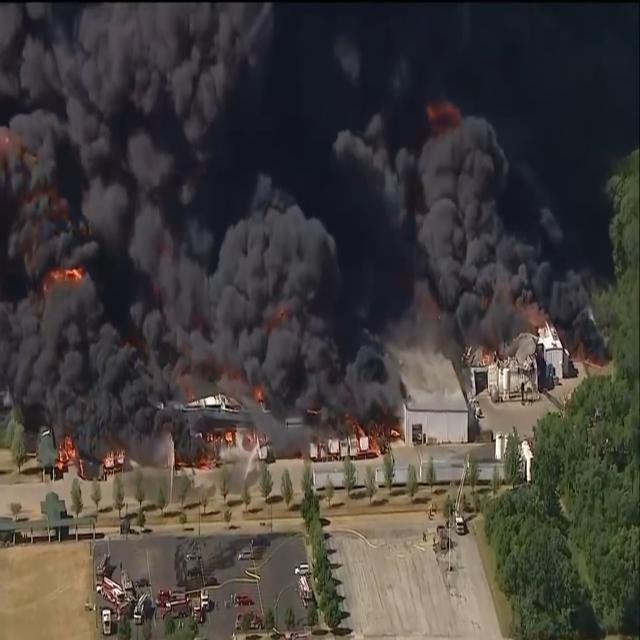Fire: (36, 260, 86, 296), (426, 100, 464, 132), (352, 417, 381, 455), (56, 432, 78, 467), (208, 429, 238, 449), (105, 445, 124, 468)
Smoke: (0, 0, 408, 450), (414, 108, 614, 368)
